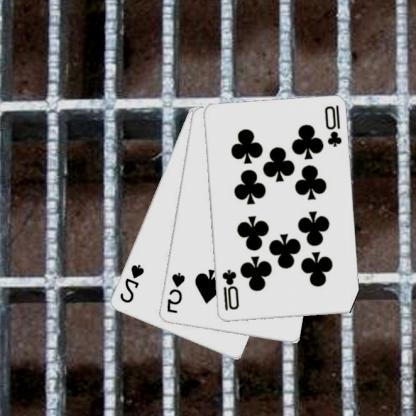10C: (323, 102, 345, 148), (221, 267, 242, 312)
2S: (119, 261, 147, 305)
5S: (165, 270, 188, 315)
